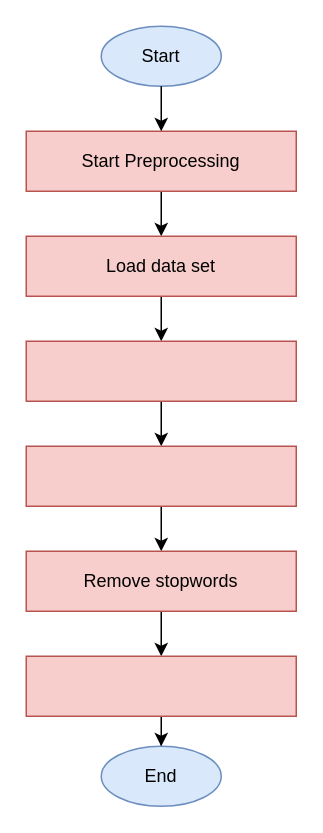
The diagram is 323 pixels wide and 833 high, and some of its shapes have lost their labels. The centre of each missing label's shape, as x and y in pixels:
"Remove punctuation" goes at point 160,475.
"Splitting text into small pieces (Tokenization)" goes at point 160,370.
"Stemming" goes at point 160,685.
